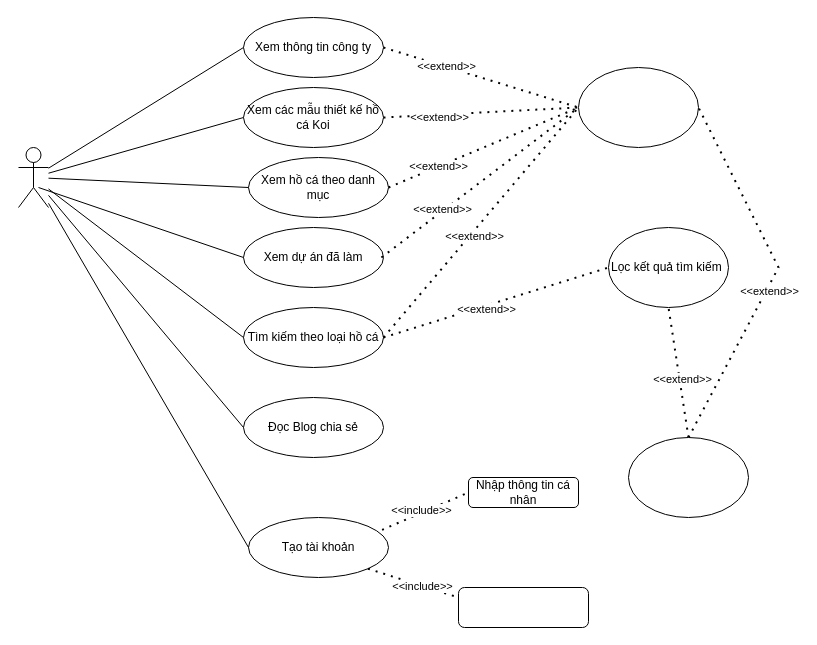
This 817x645 diagram has some shape labels left out. The shapes that lost their labels are listed below. From the top down, each one's centre as x and y in pixels, then its label:
At (x=638, y=107): "Xem chi tiết thông tin".
At (x=33, y=177): "Guest".
At (x=688, y=477): "Tìm kiếm nâng cao".
At (x=523, y=607): "Xác nhận email hoặc số điện thoại".
